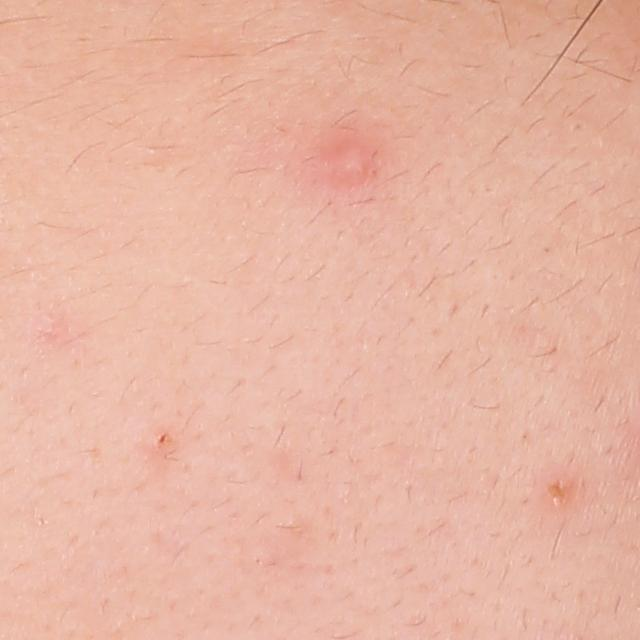papule: (328, 137, 381, 187), (535, 471, 578, 512)
